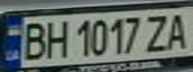0: (90, 16, 109, 56)
1: (72, 16, 93, 57), (106, 15, 127, 54)
7: (121, 14, 145, 54)
A: (163, 9, 193, 52)
B: (18, 19, 48, 61)
H: (42, 17, 69, 60)
Z: (142, 11, 172, 54)
